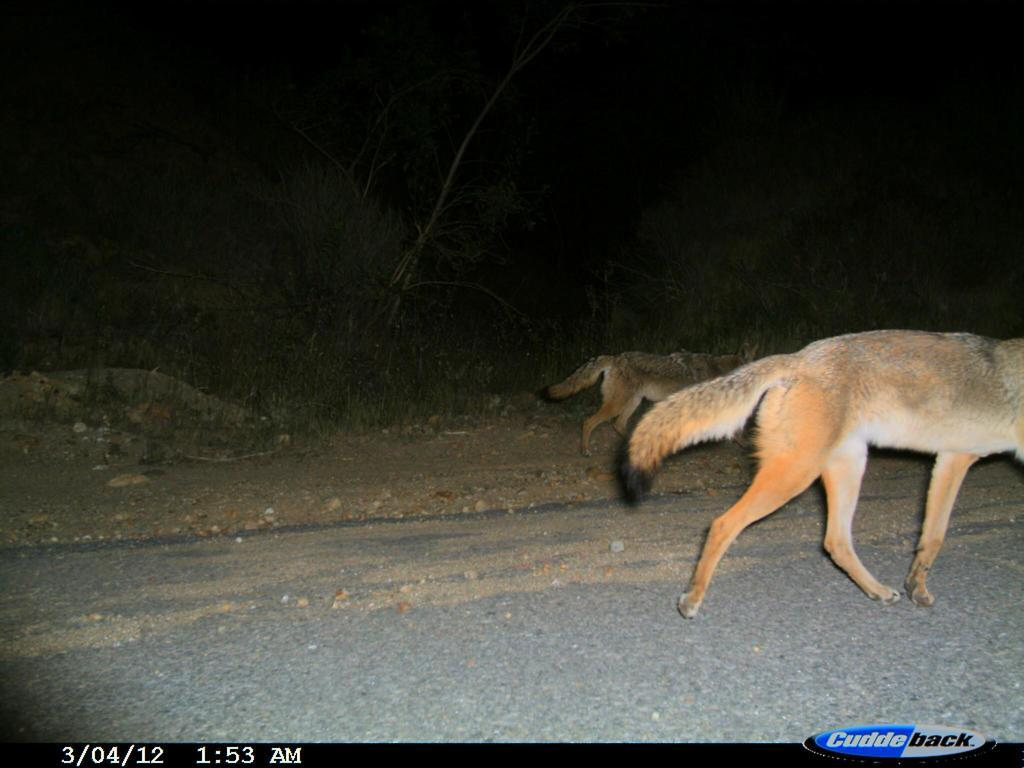coyote: (612, 321, 1023, 634), (541, 337, 760, 461)
